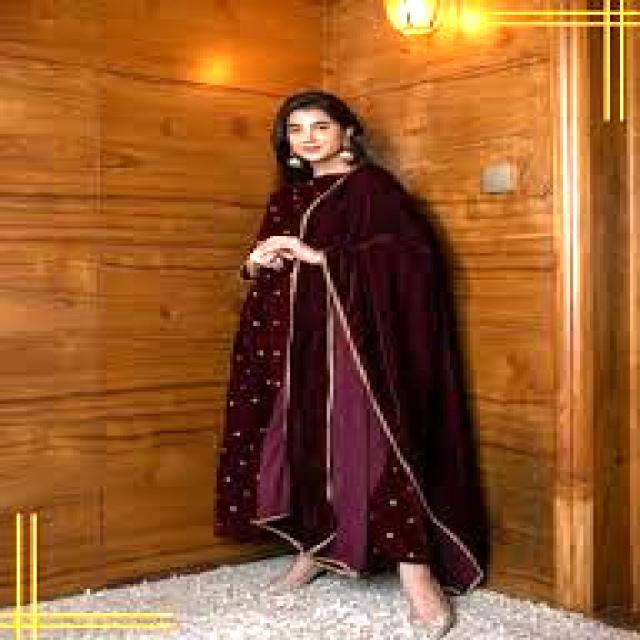dress: (217, 164, 483, 593)
